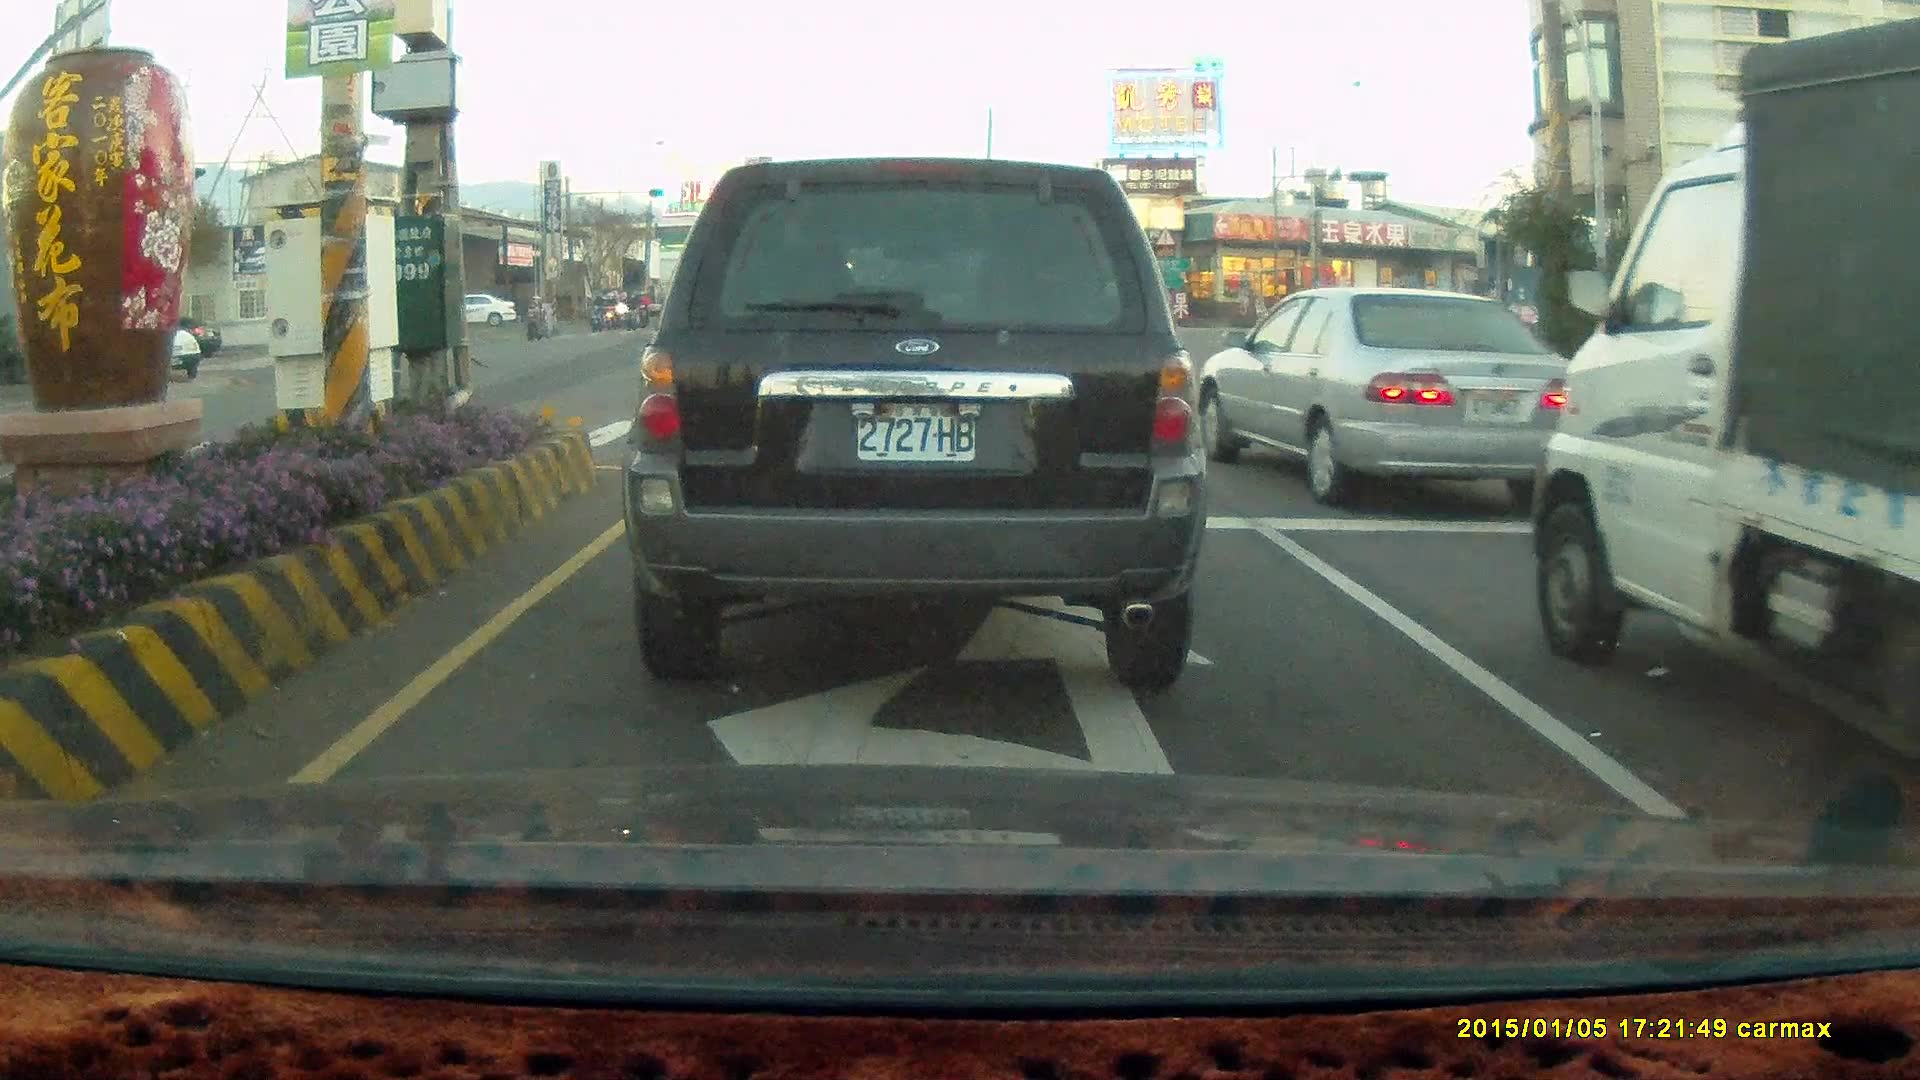rider: (516, 292, 547, 341), (620, 289, 644, 334), (586, 290, 607, 334), (590, 294, 612, 333)
vehicle: (1528, 11, 1920, 839), (619, 157, 1206, 690), (1193, 284, 1584, 508), (1186, 287, 1570, 508), (1675, 281, 1832, 371), (448, 295, 518, 328)
